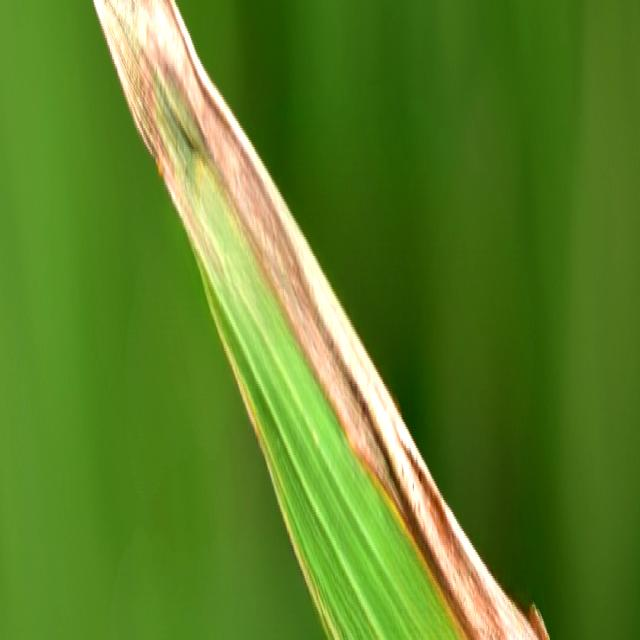BLB: (93, 0, 549, 640)
